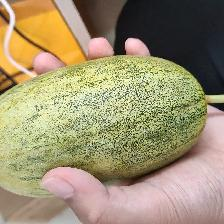gua: (24, 80, 190, 158)
